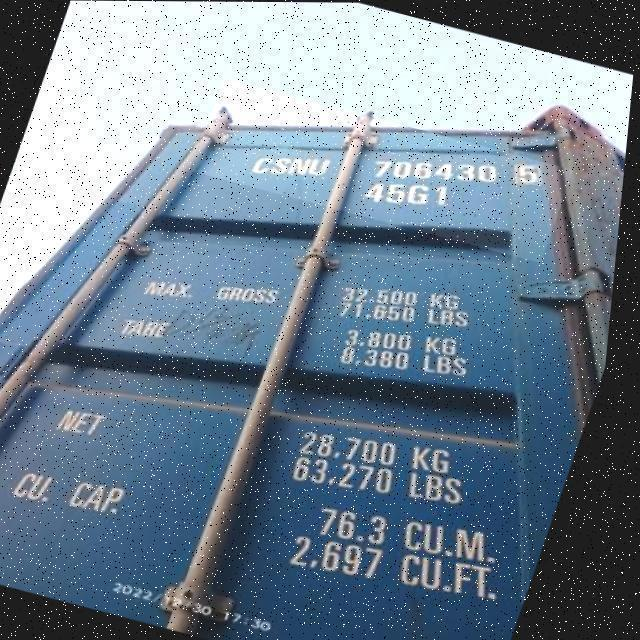ISO: (362, 180, 449, 214)
container_number: (247, 154, 558, 178)
